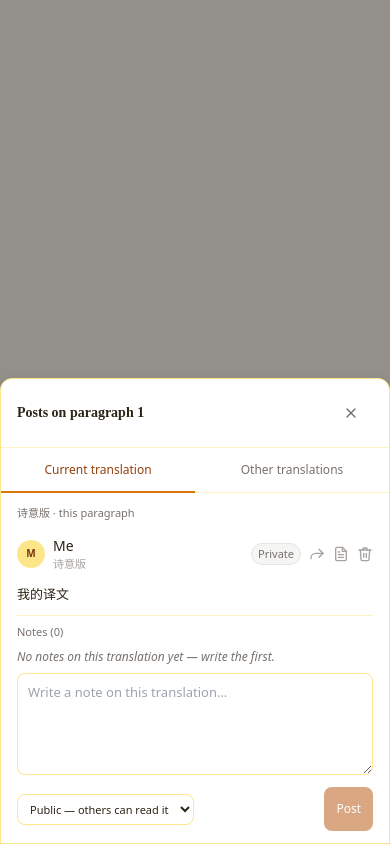
Current translation tab shows the rendering's detail inline, then its notes
The image size is (390, 844).
Expected: the button named "Share this translation" is shown, [309,532,325,576]
Expected: the button named "Delete my translation" is shown, [357,532,373,576]
Note: Edit opens the editor and returns here on save
Click the button named "Edit my translation" at (341, 554), box [333,532,349,576]
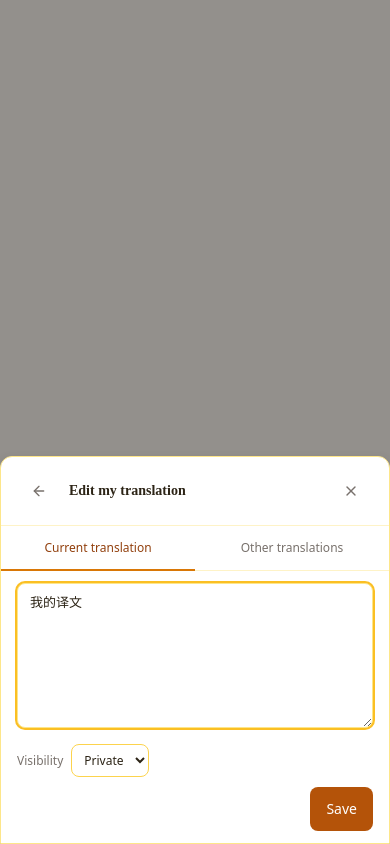
Replace the text in the text box named "My translation text" with "改" at (195, 656), box [17,583,373,728]
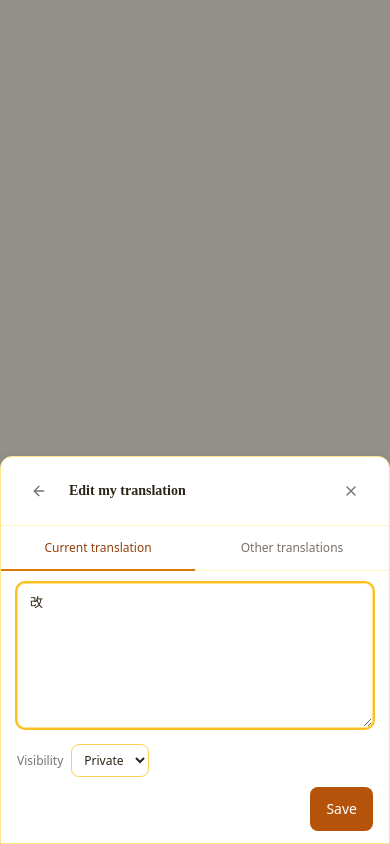
Click the button "Save" at (342, 809), box [310,787,373,831]
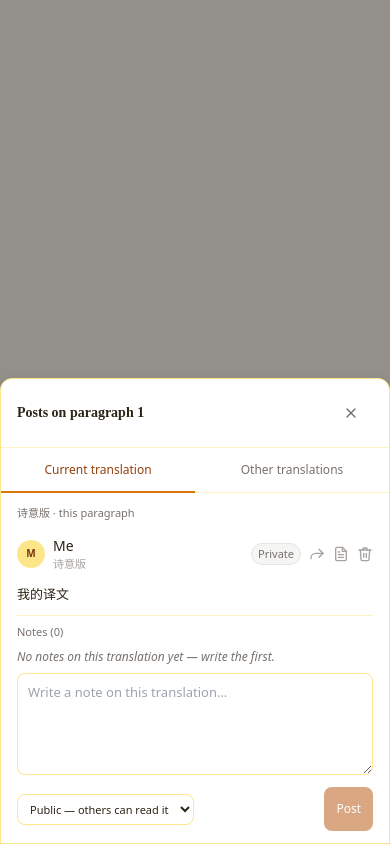
Expected: the element with test id "comments-view" is shown, [1,493,389,843]
